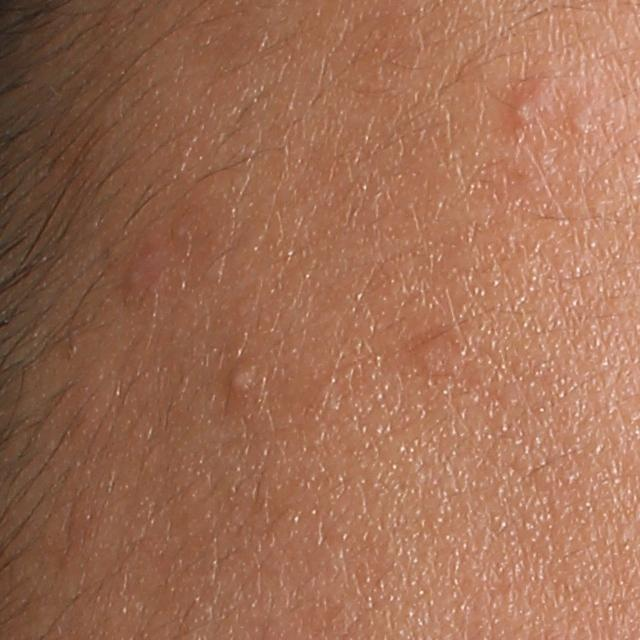comedo: (225, 358, 264, 395)
papule: (505, 88, 545, 130)
